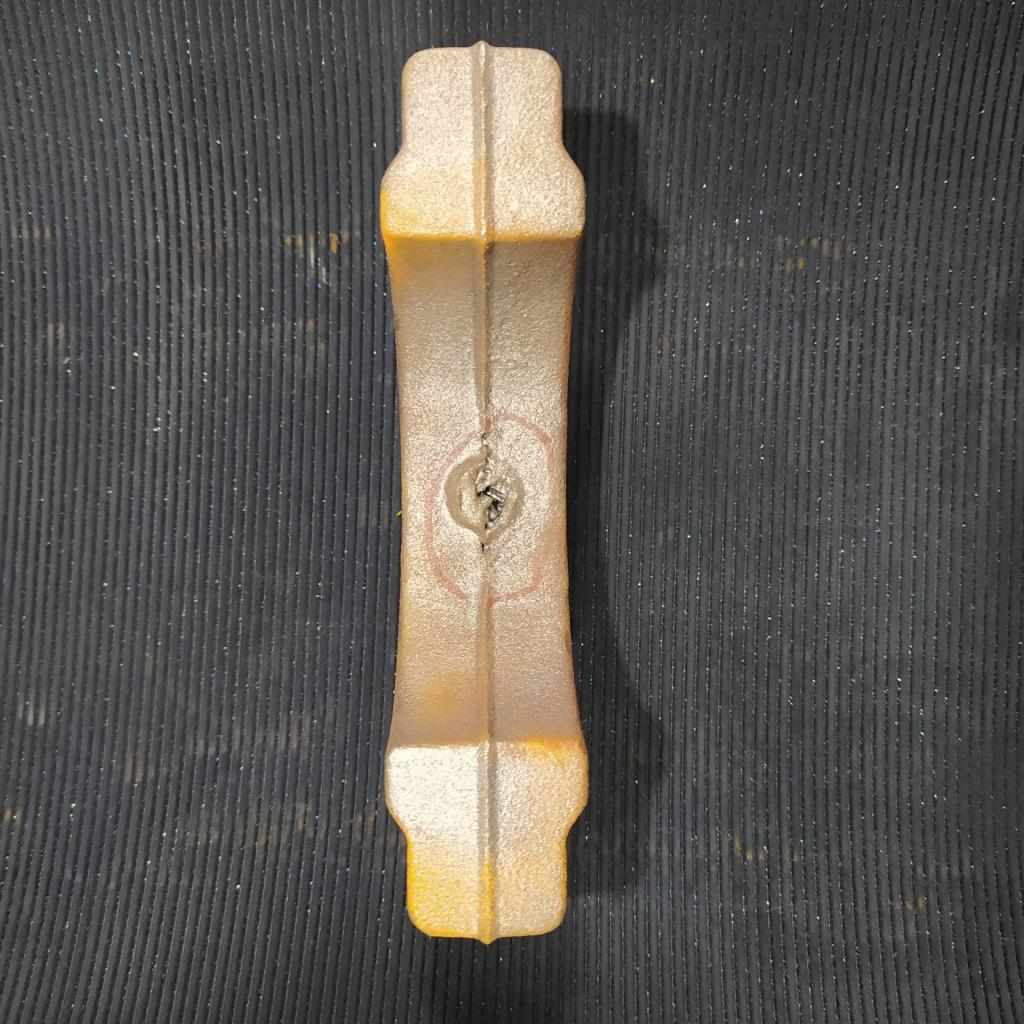buraco: (473, 484, 508, 531), (479, 542, 489, 557), (480, 432, 487, 442)
